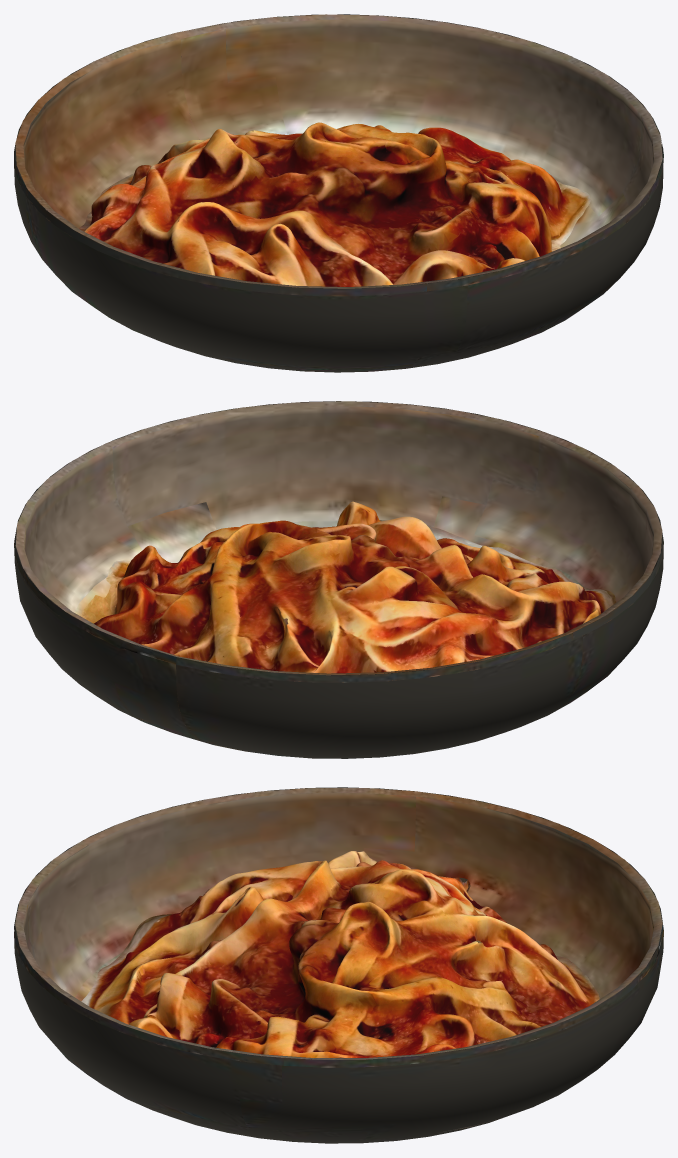
The model's file is Plato_07.glb.
3 views of the same model, one above another, from view 1: azimuth 30°, elevation 25°; view 2: azimuth 150°, elevation 25°; view 3: azimuth 270°, elevation 25° (orthographic).
Visible parts, largest first — view 1: Metal_Bowl.002, Bolognese DecimateHalf; view 2: Metal_Bowl.002, Bolognese DecimateHalf; view 3: Metal_Bowl.002, Bolognese DecimateHalf.
Part boxes in pixels (x1,y1,x2,y2): Metal_Bowl.002: [14, 14, 663, 372]; Bolognese DecimateHalf: [78, 122, 590, 286]; Metal_Bowl.002: [14, 401, 663, 758]; Bolognese DecimateHalf: [82, 501, 616, 673]; Metal_Bowl.002: [14, 787, 663, 1143]; Bolognese DecimateHalf: [81, 851, 599, 1057].
Size of the model in its own units: 0.2406 by 0.0647 by 0.2416.
Materials: 2 (2 with a texture image).
